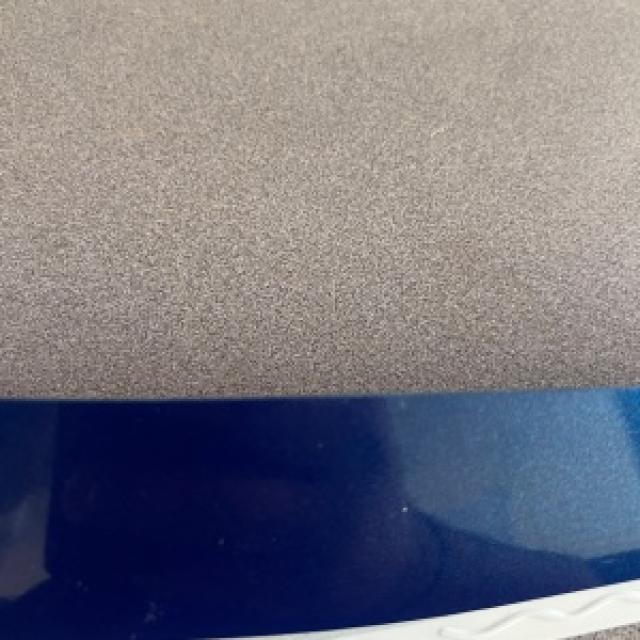healthy: (0, 388, 638, 638)
